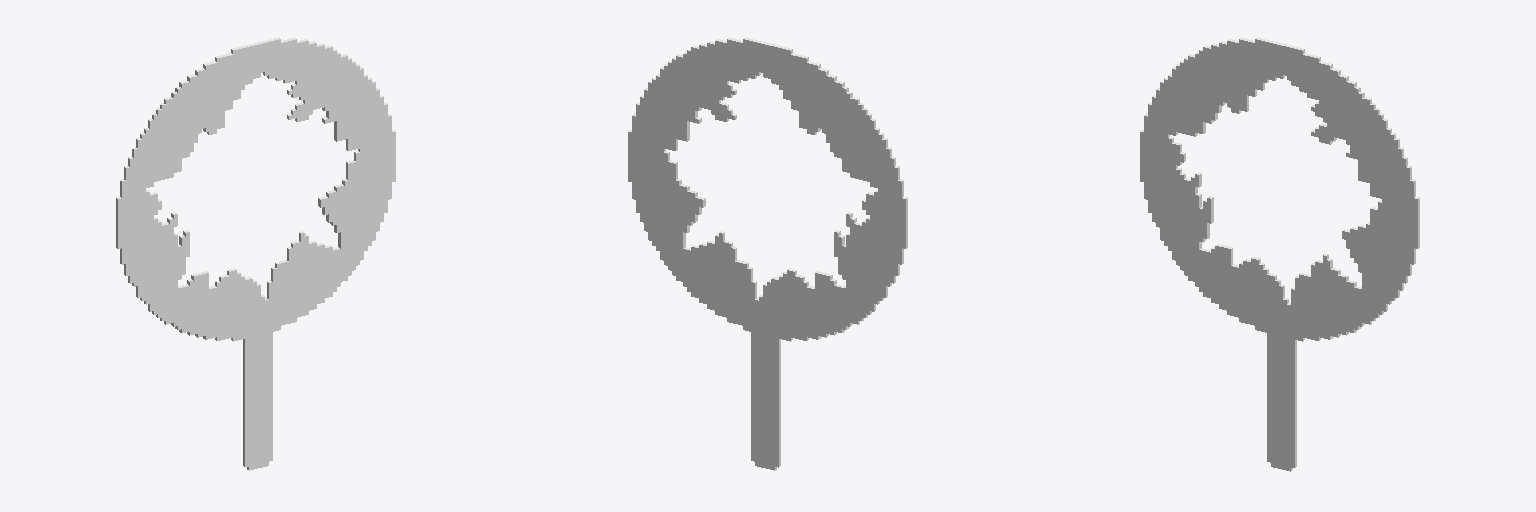
Rendered from poi_broken.obj.
3 renders of one model, left to right at view 1: azimuth 30°, elevation 25°; view 2: azimuth 150°, elevation 25°; view 3: azimuth 330°, elevation 25°, orthographic.
Parts seen in each view (by area): view 1: object 1; view 2: object 1; view 3: object 1.
Part boxes in pixels (x1,y1,x2,y2): object 1: (116, 37, 395, 470); object 1: (628, 37, 907, 470); object 1: (1140, 37, 1419, 471).
Size of the model in its own units: 7 by 10.2 by 0.1.